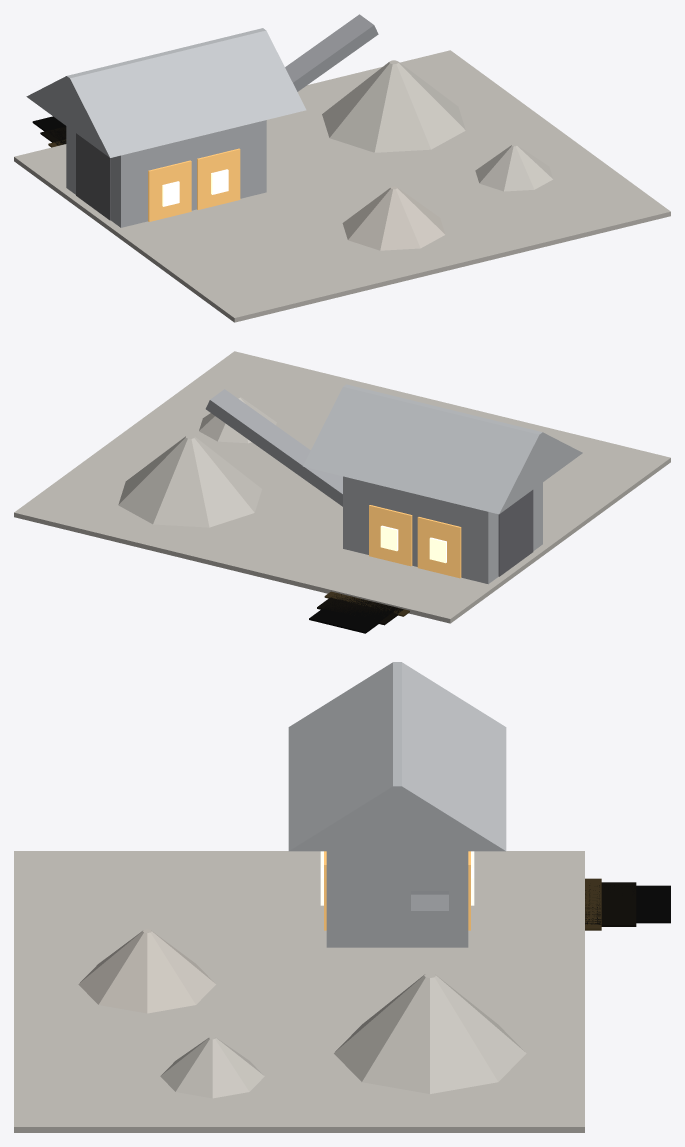
File: plc_quarry.glb
3 renders of one model, top to bottom at view 1: azimuth 30°, elevation 25°; view 2: azimuth 150°, elevation 25°; view 3: azimuth 270°, elevation 25°, orthographic. The views are drawn at different scales.
Parts seen in each view (by area): view 1: plc_quarry; view 2: plc_quarry; view 3: plc_quarry.
Boxes of the visible parts, box(x1,y1,x2,y2) form: plc_quarry: box(14, 14, 670, 322); plc_quarry: box(14, 351, 670, 633); plc_quarry: box(14, 662, 670, 1132).
Bounding box in the file's own units: 2.13 × 0.6324 × 2.05.
